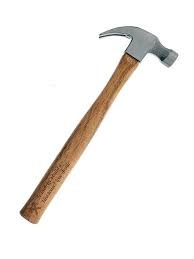hammer: (18, 24, 180, 224)
